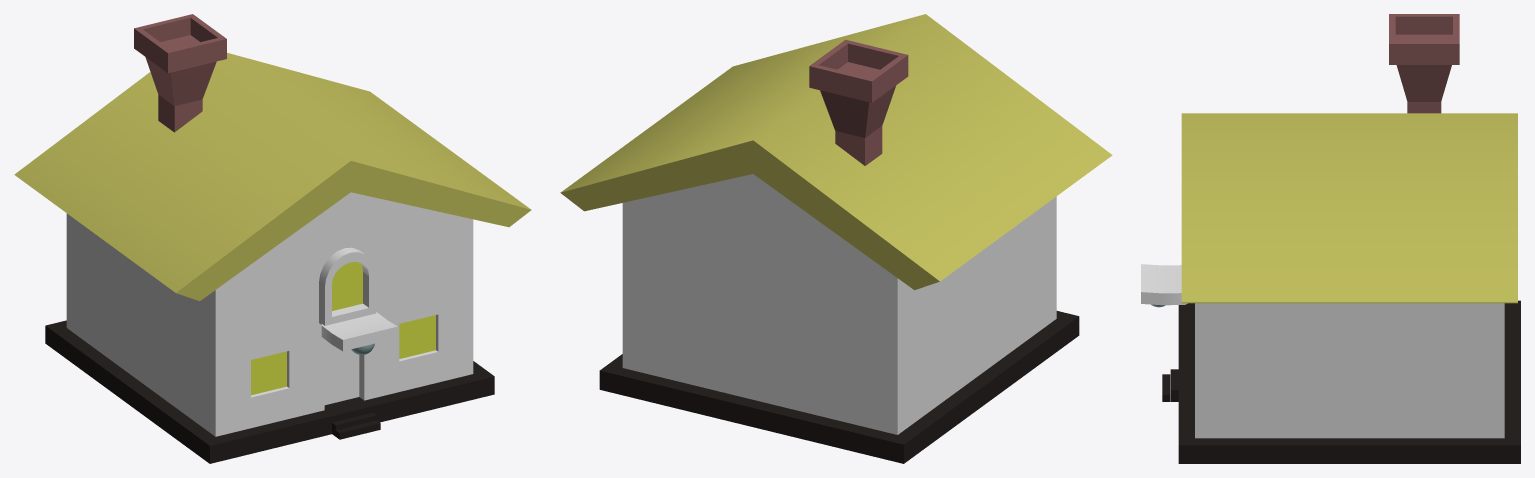
Rendered from House_4.fbx.
The picture shows the model from 3 angles, left to right: view 1: azimuth 30°, elevation 25°; view 2: azimuth 150°, elevation 25°; view 3: azimuth 270°, elevation 25°; orthographic projection. The views are drawn at different scales.
Parts seen in each view (by area): view 1: polySurface13; view 2: polySurface13; view 3: polySurface13.
Part boxes in pixels (x1,y1,x2,y2): polySurface13: (14,14,531,463); polySurface13: (560,14,1112,463); polySurface13: (1141,14,1520,463).
Size of the model in its own units: 31.09 by 26.9 by 27.61.
